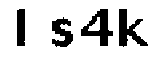4: (80, 6, 114, 49)
k: (116, 7, 152, 51)
l: (11, 6, 34, 53)
s: (45, 17, 76, 51)
